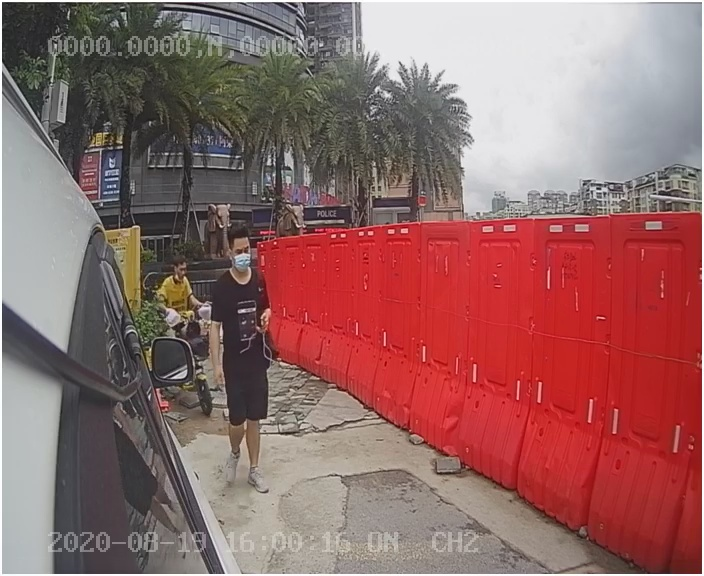person: (207, 223, 291, 495)
